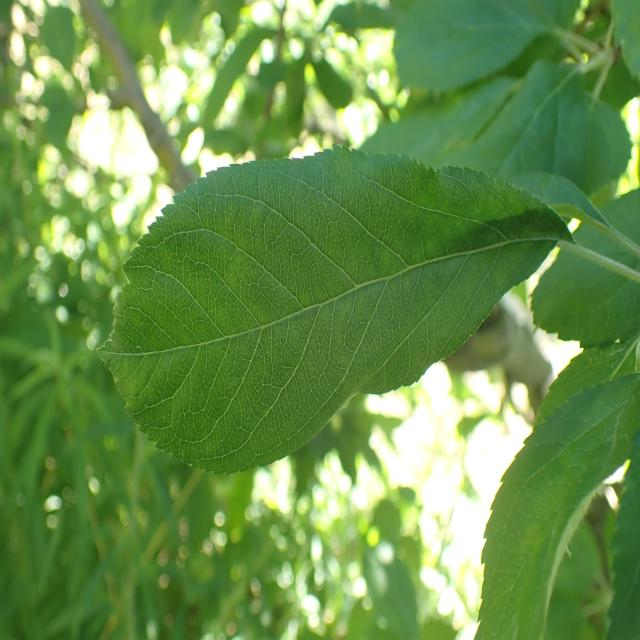healthy: (96, 143, 573, 476), (473, 370, 640, 640), (528, 188, 640, 347), (392, 0, 580, 94)
